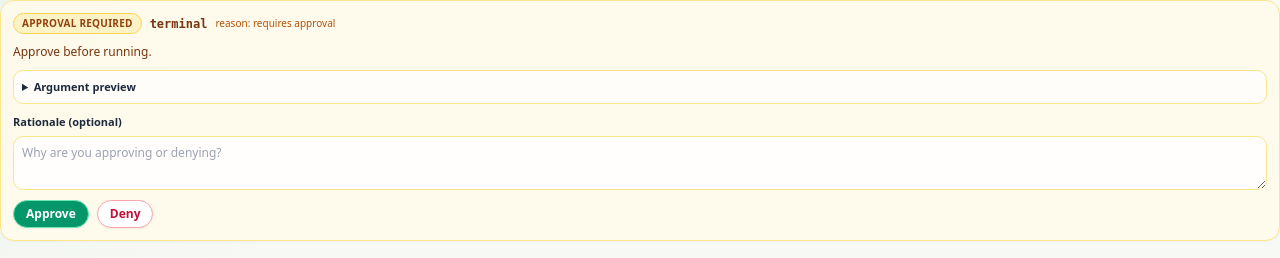
Test: ApprovalGate › submits the decision with the reviewer rationale on approve click
This screenshot has width=1280, height=258.
Type "Verified on a disposable VM." into the text box with placeholder "Why are you approving or denying?" at (640, 163), box [13, 136, 1267, 190]
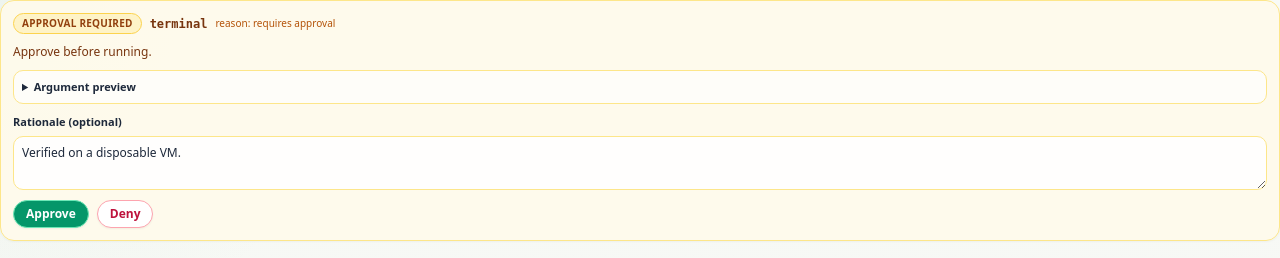
Click the button "Approve" at (51, 214), box [13, 200, 89, 228]
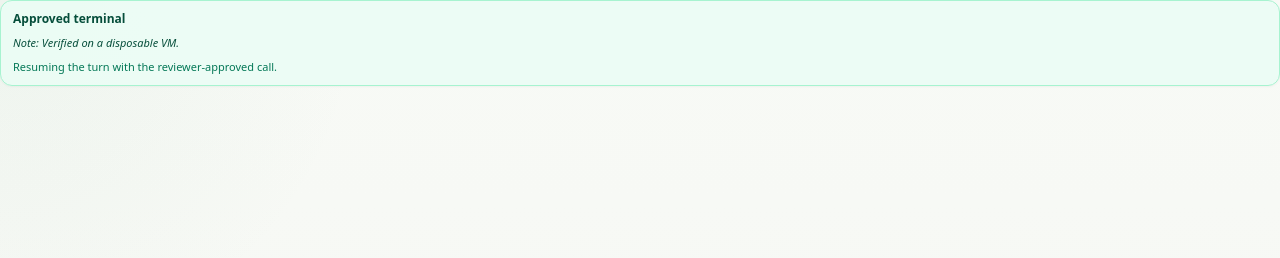
Result: the text "Approved terminal" is shown at [13, 10, 126, 27]
